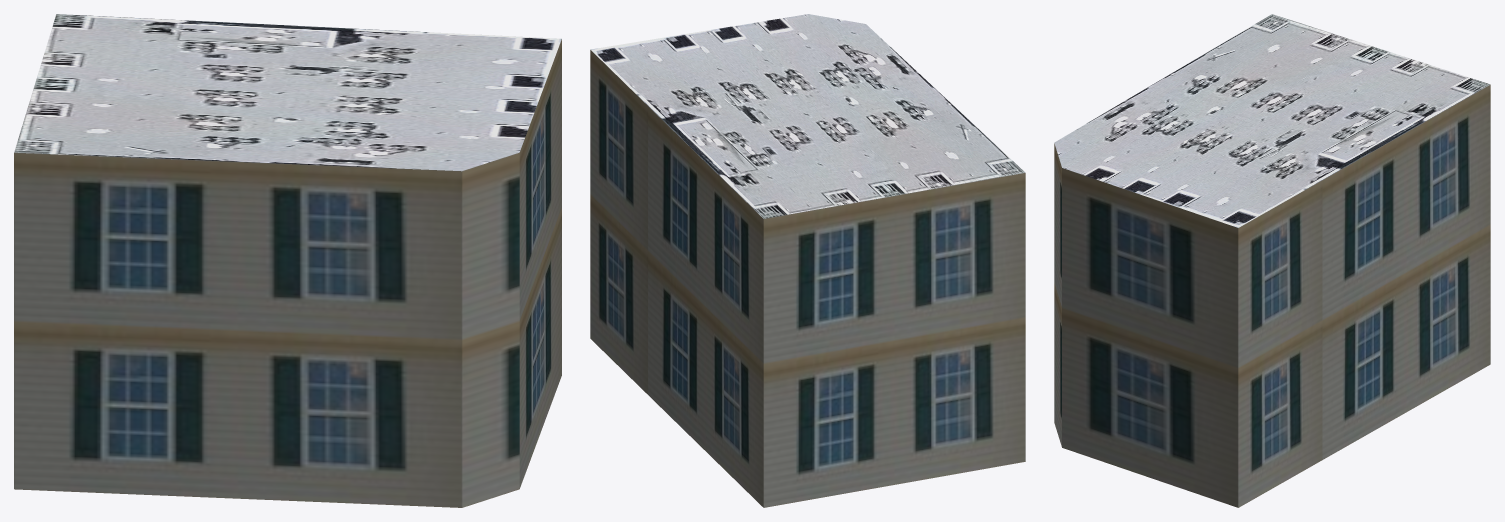
The model's file is ResTex__4269.fbx.
The picture shows the model from 3 angles, left to right: view 1: azimuth 30°, elevation 25°; view 2: azimuth 150°, elevation 25°; view 3: azimuth 270°, elevation 25°; orthographic projection. The views are drawn at different scales.
Visible parts, largest first — view 1: CityEngineMaterial_7_m, CityEngineMaterial_8_m; view 2: CityEngineMaterial_7_m, CityEngineMaterial_8_m; view 3: CityEngineMaterial_7_m, CityEngineMaterial_8_m.
Part boxes in pixels (x1,y1,x2,y2): CityEngineMaterial_7_m: [14, 39, 561, 507]; CityEngineMaterial_8_m: [14, 14, 561, 171]; CityEngineMaterial_7_m: [590, 50, 1025, 507]; CityEngineMaterial_8_m: [590, 14, 1025, 218]; CityEngineMaterial_7_m: [1054, 84, 1490, 507]; CityEngineMaterial_8_m: [1054, 14, 1490, 227].
Bounding box in the file's own units: 9.84 × 6 × 8.48.
Materials: 2 (2 with a texture image).
